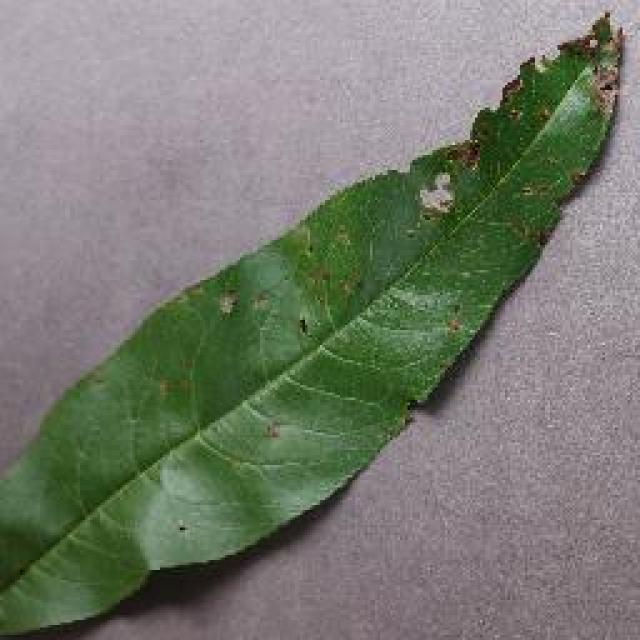Peach_Bacterial_Spot: (386, 42, 632, 258)
